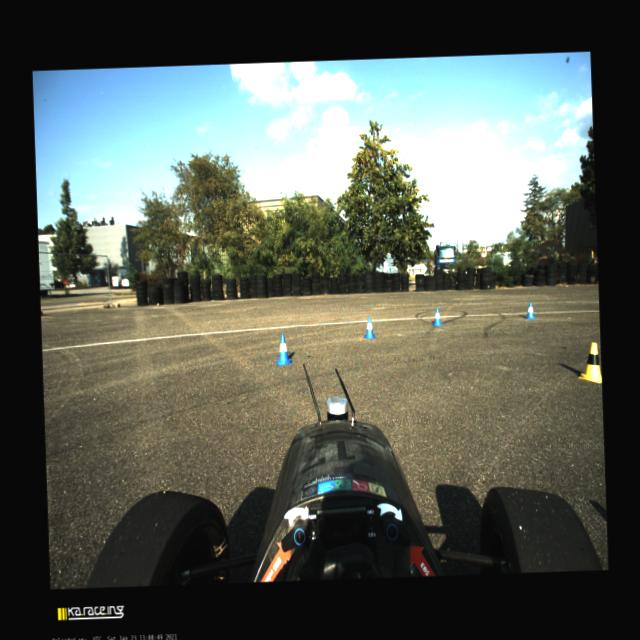blue_cone: (274, 334, 292, 364), (362, 316, 376, 338), (432, 308, 442, 326), (525, 302, 535, 318)
yellow_cone: (576, 342, 601, 383)
